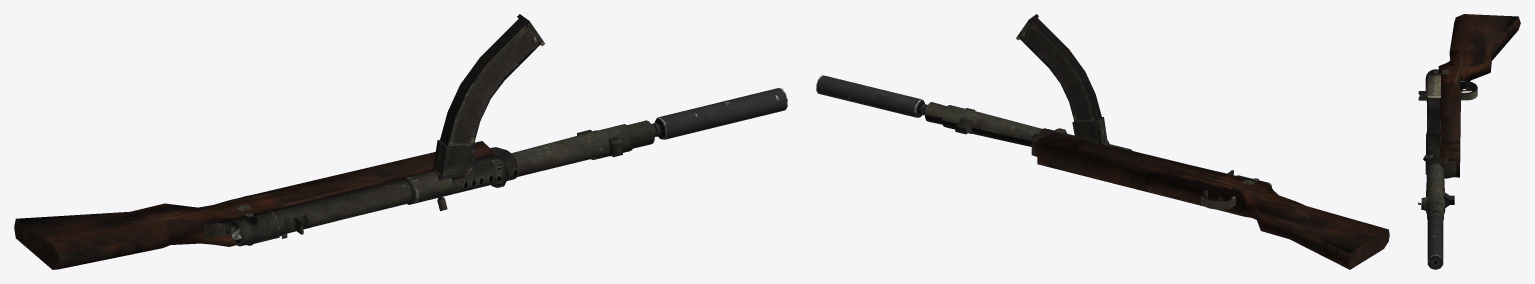
Rendered from weapon_jap_smg_type100_silent_LOD11.obj.
3 renders of one model, left to right at view 1: azimuth 30°, elevation 25°; view 2: azimuth 150°, elevation 25°; view 3: azimuth 270°, elevation 25°, orthographic. The views are drawn at different scales.
Parts seen in each view (by area): view 1: TomGroup_0, TomGroup_1, TomGroup_2; view 2: TomGroup_1, TomGroup_0, TomGroup_2; view 3: TomGroup_1, TomGroup_0, TomGroup_2.
Part boxes in pixels (bbox=[...]): TomGroup_0: bbox=[230, 14, 662, 246]; TomGroup_1: bbox=[14, 141, 496, 269]; TomGroup_2: bbox=[651, 88, 787, 139]; TomGroup_1: bbox=[1037, 132, 1389, 269]; TomGroup_0: bbox=[918, 14, 1272, 209]; TomGroup_2: bbox=[816, 75, 927, 117]; TomGroup_1: bbox=[1438, 14, 1520, 177]; TomGroup_0: bbox=[1418, 69, 1477, 220]; TomGroup_2: bbox=[1427, 213, 1443, 269].
Bounding box in the file's own units: 118 × 26.87 × 21.35.
3 materials, 3 textured.
